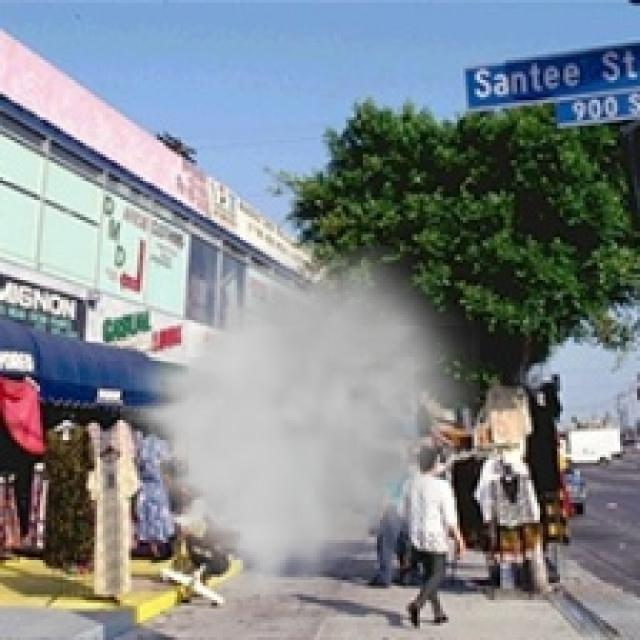smoke: (120, 246, 480, 594)
